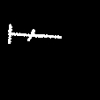double_crochet: (8, 24, 60, 43)
